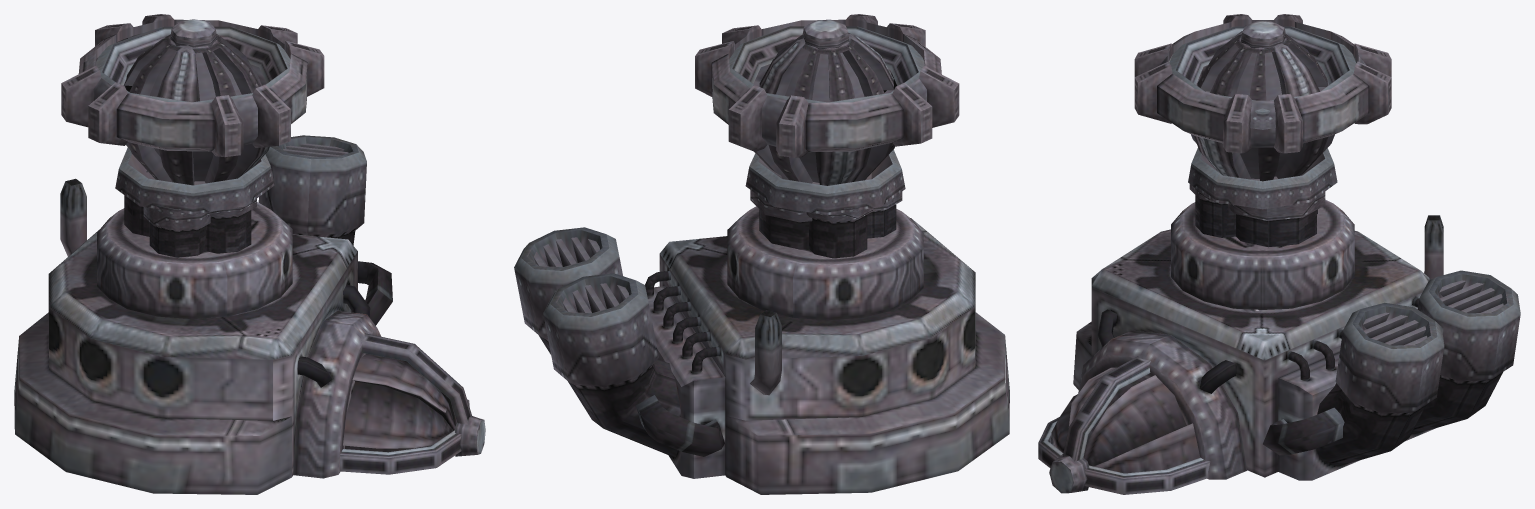
The model's file is SM_EN_1002_kongzhitai01.FBX.
The picture shows the model from 3 angles, left to right: view 1: azimuth 30°, elevation 25°; view 2: azimuth 150°, elevation 25°; view 3: azimuth 270°, elevation 25°; orthographic projection. The views are drawn at different scales.
Parts seen in each view (by area): view 1: SM_EN_1002_kongzhitai01; view 2: SM_EN_1002_kongzhitai01; view 3: SM_EN_1002_kongzhitai01.
Part boxes in pixels (x1,y1,x2,y2): SM_EN_1002_kongzhitai01: (14,14,485,494); SM_EN_1002_kongzhitai01: (514,14,1009,494); SM_EN_1002_kongzhitai01: (1038,14,1520,494).
Bounding box in the file's own units: 203 × 198 × 226.
